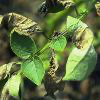Potato leaf late blight: (65, 16, 99, 87), (41, 49, 67, 99), (0, 12, 43, 38), (35, 0, 76, 14)
